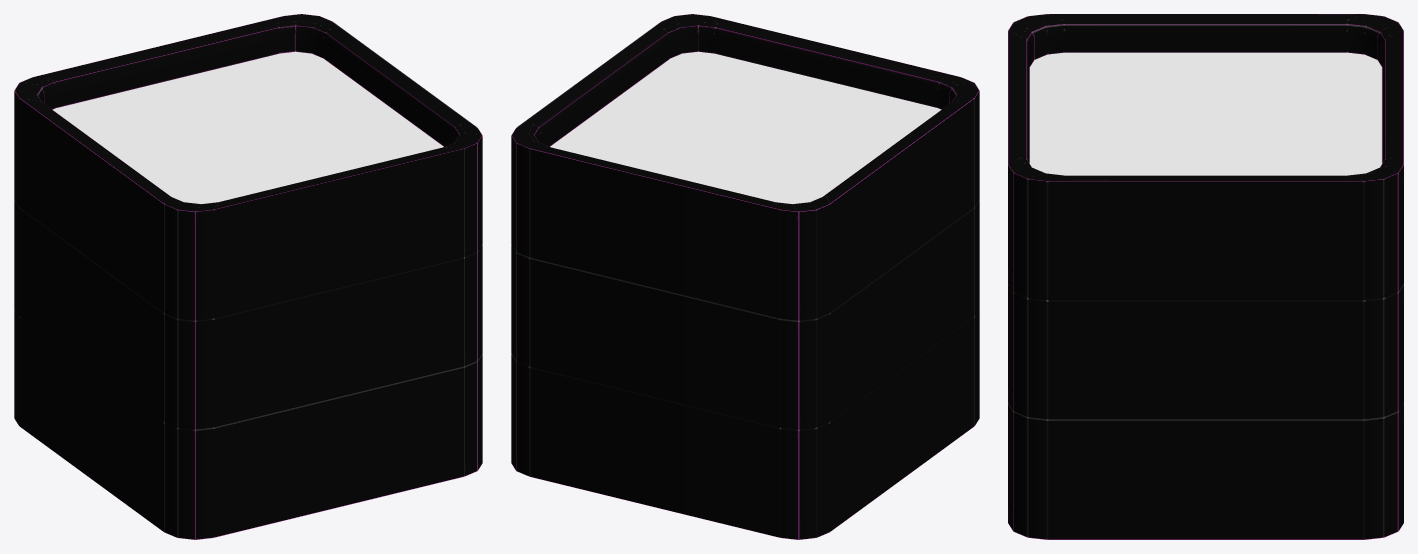
Rendered from StageLv0.fbx.
The picture shows the model from 3 angles, left to right: view 1: azimuth 30°, elevation 25°; view 2: azimuth 150°, elevation 25°; view 3: azimuth 270°, elevation 25°; orthographic projection. The views are drawn at different scales.
Parts seen in each view (by area): view 1: pCube1; view 2: pCube1; view 3: pCube1.
Boxes of the visible parts, left/top/right/bottom form: pCube1: left=14, top=14, right=482, bottom=539; pCube1: left=511, top=14, right=979, bottom=539; pCube1: left=1008, top=14, right=1403, bottom=539.
Bounding box in the file's own units: 1 × 1 × 1.
Materials: 1 (1 with a texture image).
